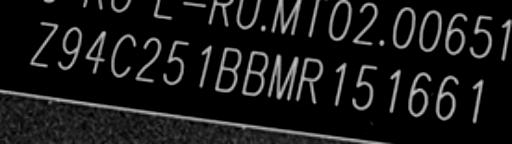letter: (24, 16, 62, 72), (156, 35, 194, 89), (264, 49, 302, 103), (292, 51, 328, 107), (238, 46, 274, 100), (212, 42, 246, 96), (430, 72, 466, 122), (406, 66, 438, 122), (132, 33, 166, 85), (350, 61, 384, 113), (462, 73, 494, 128), (54, 22, 88, 72), (82, 25, 116, 75), (108, 29, 140, 79), (328, 55, 354, 109), (190, 40, 218, 90), (384, 64, 408, 116)
